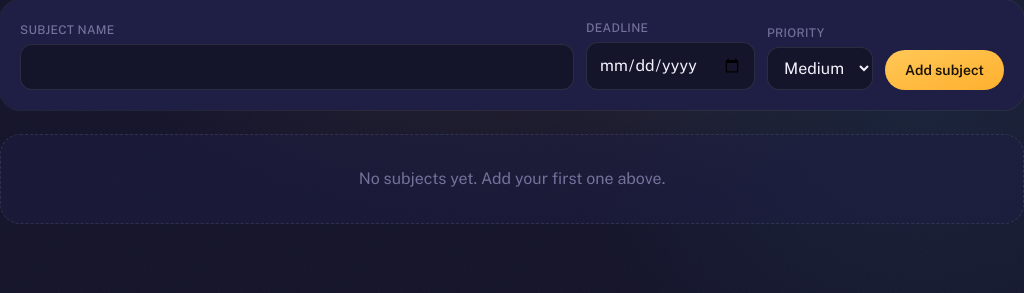
it: SubjectManager › adds a subject through the form
Expected: the text "No subjects yet. Add your first one above." is shown, [0, 134, 1023, 224]
Step 1. Type "Physics" into the field labelled "Subject name" → (297, 67), box [20, 44, 574, 90]
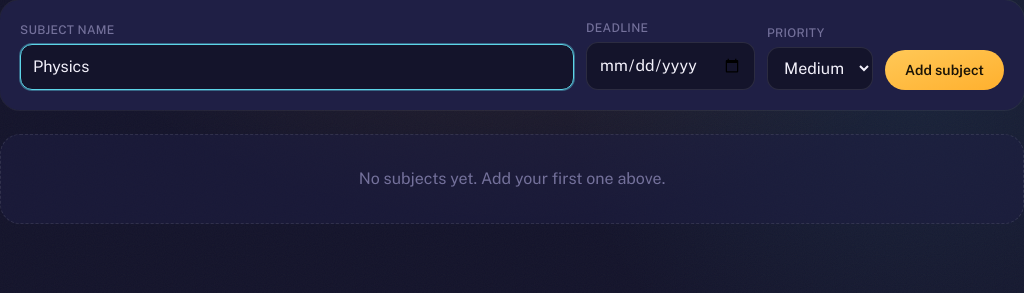
Step 2. Type "2026-08-01" into the date field labelled "Deadline" → (671, 66), box [586, 42, 755, 90]
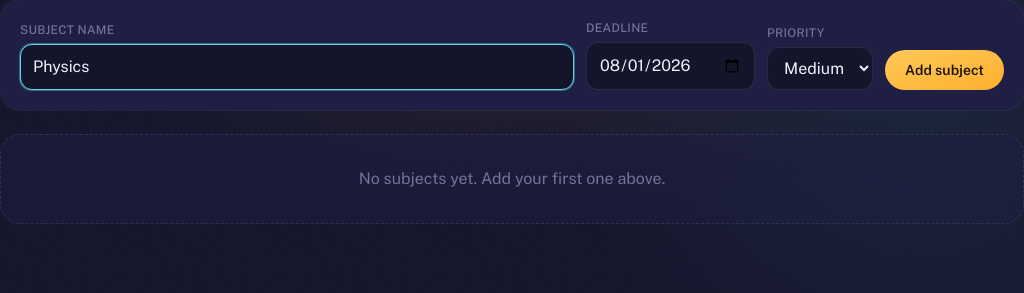
Step 3. Click the button "Add subject" → (945, 70), box [885, 50, 1004, 90]
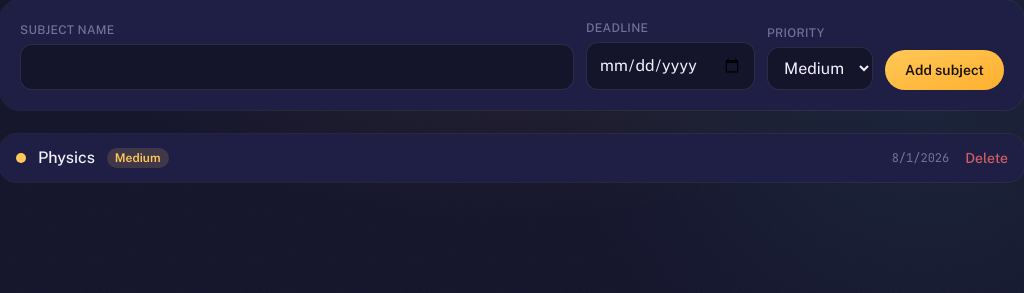
Now the text "Physics" is shown, box [38, 146, 95, 170]
